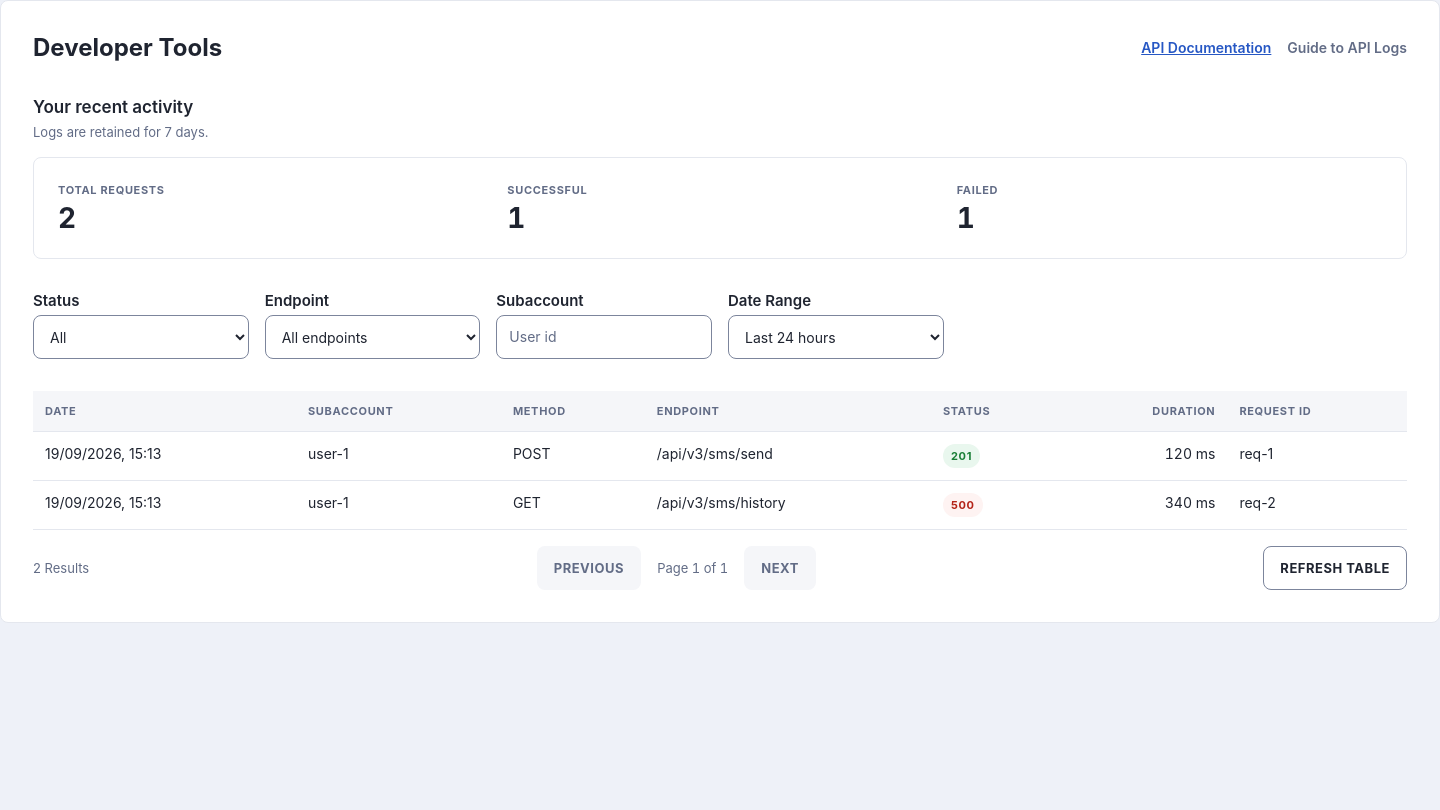
ApiLogsScreen › pages through the last seven days without asking for them again
Expected: the text "req-1" is shown, left=1227, top=432, right=1407, bottom=480
Step 1. Select "Last 7 days" in the dropdown labelled "Date Range" → (836, 337), box left=728, top=315, right=944, bottom=359
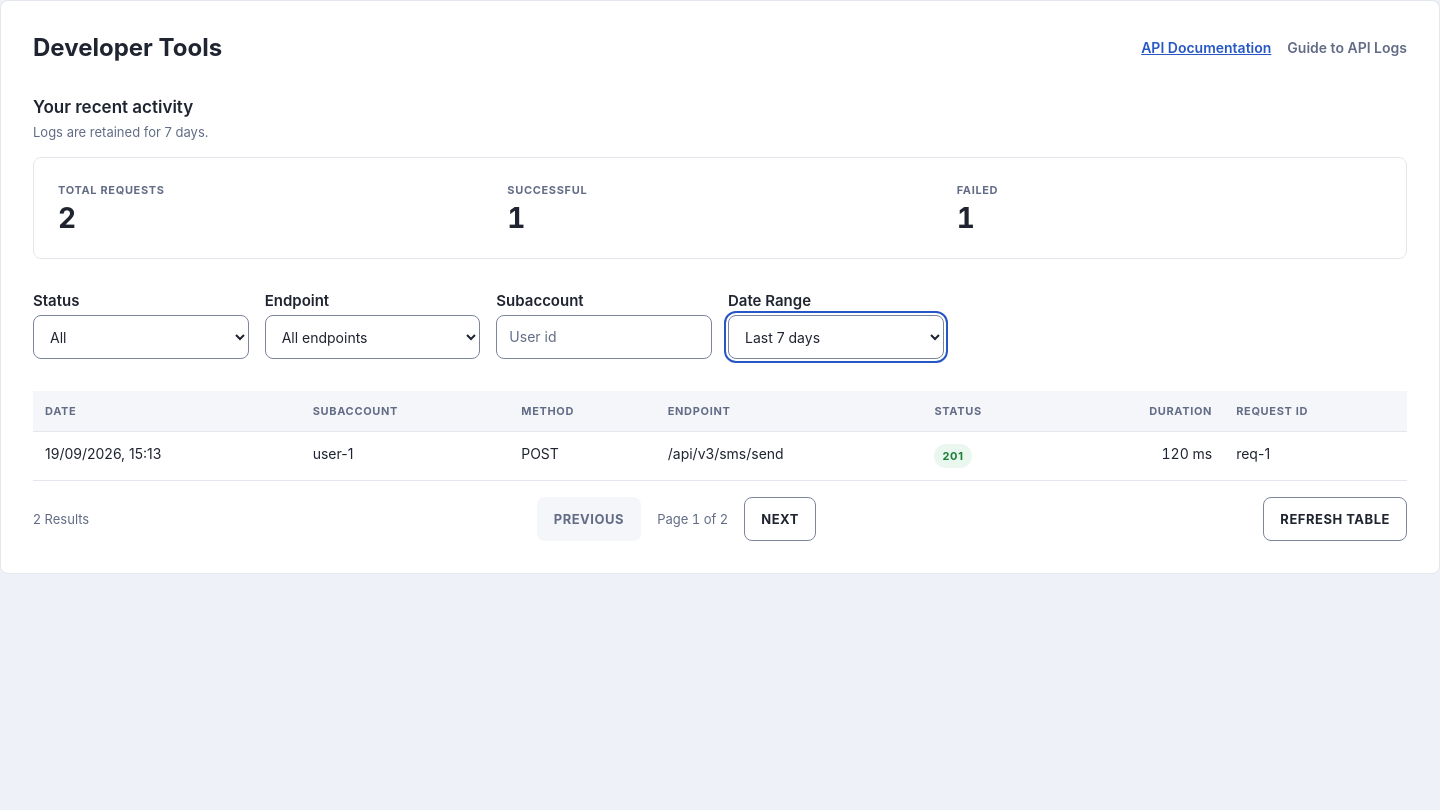
Expected: the text "Page 1 of 2" is shown, left=657, top=511, right=728, bottom=527
Step 2. Click the button "Next" → (780, 519), box left=744, top=497, right=816, bottom=541
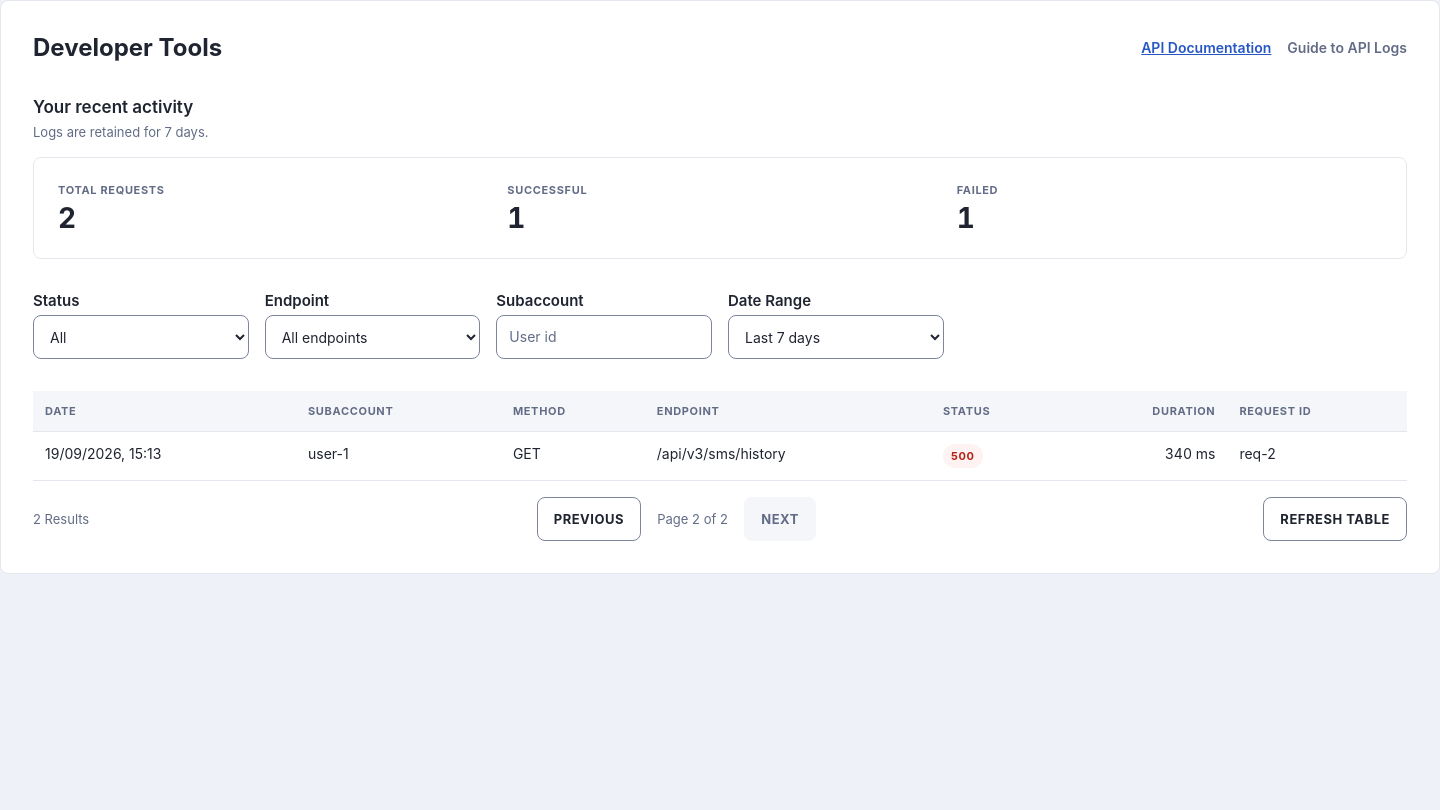
Expected: the text "req-2" is shown, left=1227, top=432, right=1407, bottom=480
